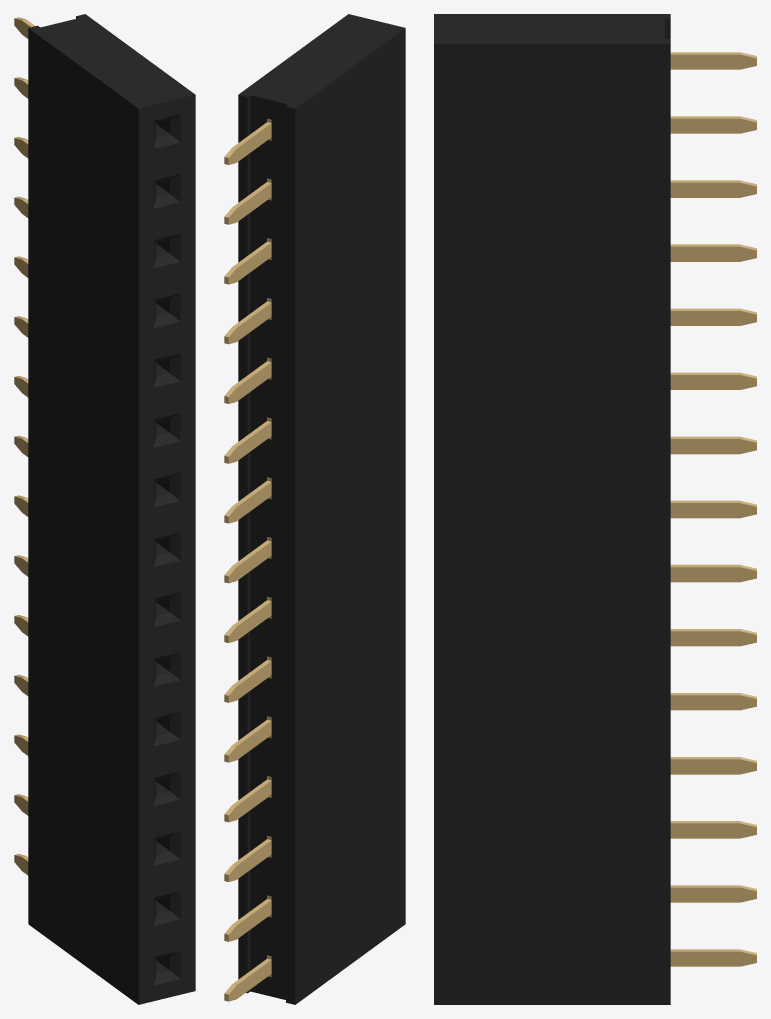
File: PinSocket_1x15_P2.54mm_Vertical.glb
The picture shows the model from 3 angles, left to right: view 1: azimuth 30°, elevation 25°; view 2: azimuth 150°, elevation 25°; view 3: azimuth 270°, elevation 25°; orthographic projection. The views are drawn at different scales.
Visible parts, largest first — view 1: PinSocket_1x15_P2.54mm_Vertical; view 2: PinSocket_1x15_P2.54mm_Vertical; view 3: PinSocket_1x15_P2.54mm_Vertical.
Part boxes in pixels (x1=…): PinSocket_1x15_P2.54mm_Vertical: x1=14, y1=14, x2=195, y2=1004; PinSocket_1x15_P2.54mm_Vertical: x1=224, y1=14, x2=405, y2=1004; PinSocket_1x15_P2.54mm_Vertical: x1=434, y1=14, x2=756, y2=1004.
Bounding box in the file's own units: 0.00254 × 0.0381 × 0.0116.
